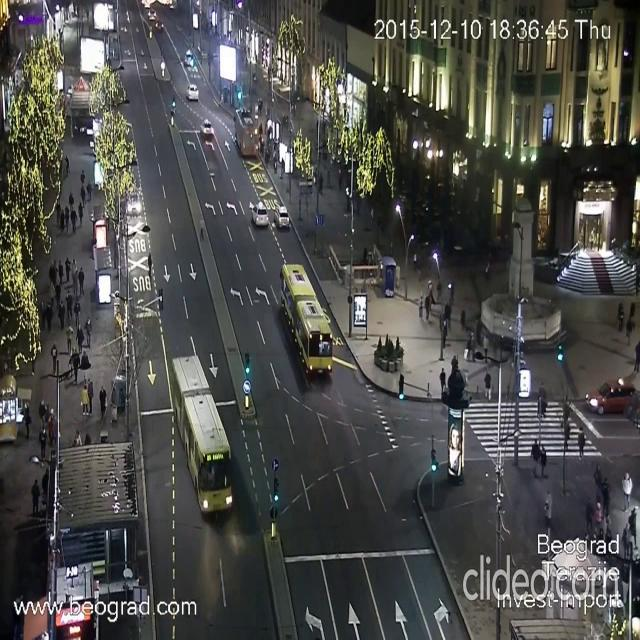bus: (170, 352, 232, 517), (279, 263, 333, 382), (233, 107, 259, 157)
car: (585, 377, 637, 415), (275, 207, 291, 228), (200, 118, 214, 138), (254, 202, 266, 224), (186, 84, 198, 100), (148, 14, 156, 22), (157, 14, 161, 28)
